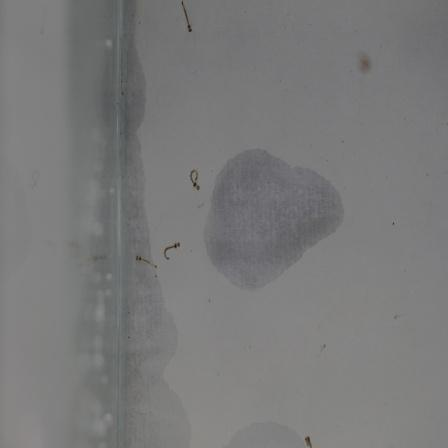Jentik-Nyamuk: (174, 0, 197, 37), (133, 246, 158, 274), (162, 238, 185, 268), (184, 166, 203, 195)
